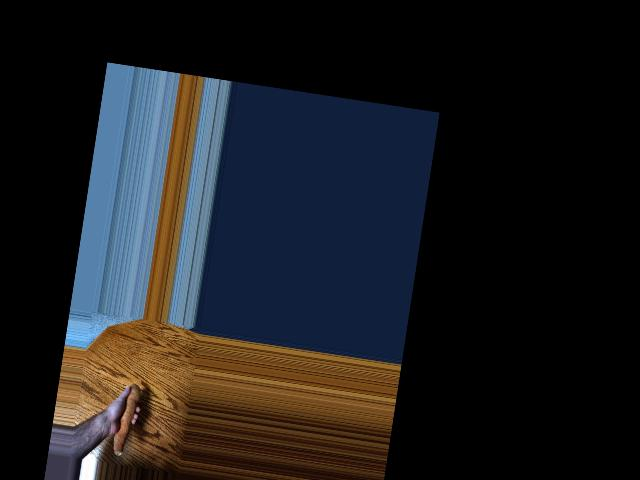sweet_potato: (109, 383, 144, 457)
